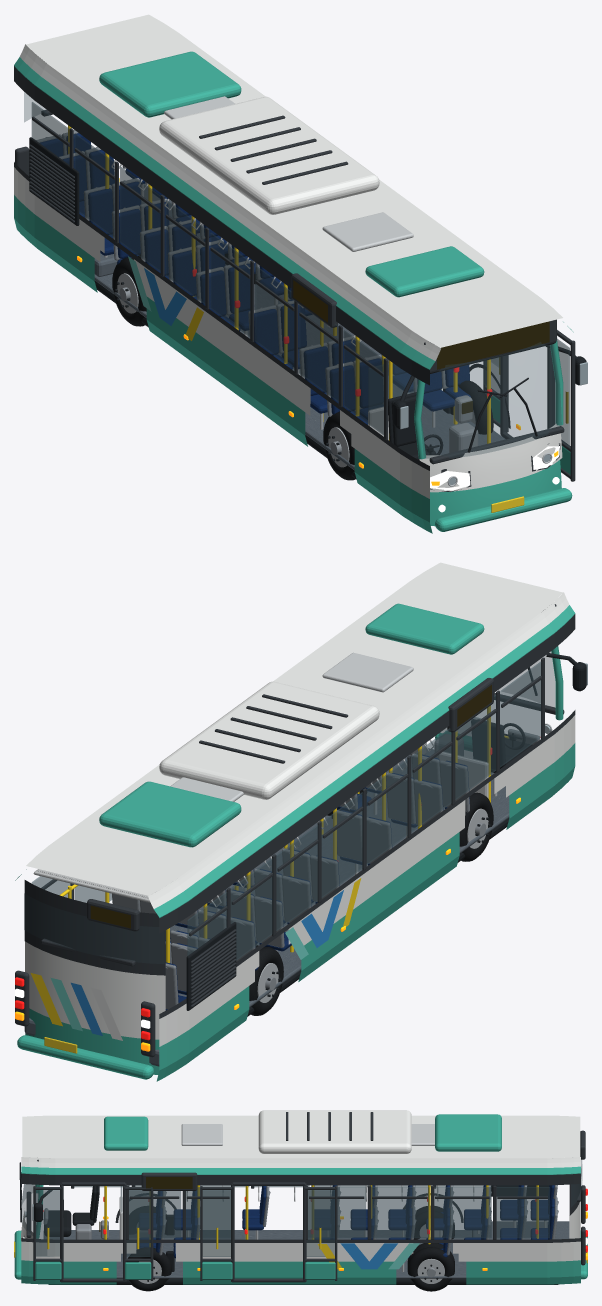
File: bus_egged.glb
3 views of the same model, one above another, from view 1: azimuth 30°, elevation 25°; view 2: azimuth 150°, elevation 25°; view 3: azimuth 270°, elevation 25° (orthographic). The views are drawn at different scales.
Parts seen in each view (by area): view 1: Body_Bus_Paint_White_PBR, Body_Bus_Smoked_Glass, Body_Bus_Paint_Teal_PBR, Body_Bus_Charcoal_PBR, Body_Bus_Seat_Fabric_4K_PBR, Body_Bus_Floor_4K_PBR, Body_Bus_Black_Plastic, Body_Bus_Seat_Shell, Body_Bus_Light_Grey, DestSign, Body_Bus_Safety_Yellow, Door1L_Bus_Charcoal_PBR (+7 smaller); view 2: Body_Bus_Paint_White_PBR, Body_Bus_Paint_Teal_PBR, Body_Bus_Smoked_Glass, Body_Bus_Charcoal_PBR, Body_Bus_Seat_Shell, Body_Bus_Floor_4K_PBR, Body_Bus_Light_Grey, Body_Bus_Black_Plastic, Body_Bus_Safety_Yellow, Body_Bus_Livery_Blue, Body_Bus_Seat_Fabric_4K_PBR, Wheel_RL_Outer_Bus_Tyre_Rubber_PBR (+3 smaller); view 3: Body_Bus_Paint_White_PBR, Body_Bus_Smoked_Glass, Body_Bus_Paint_Teal_PBR, Body_Bus_Charcoal_PBR, Body_Bus_Seat_Fabric_4K_PBR, Body_Bus_Floor_4K_PBR, Body_Bus_Black_Plastic, Body_Bus_Light_Grey, Door2L_Bus_Smoked_Glass, Body_Bus_Seat_Shell, Door2R_Bus_Smoked_Glass, Door1L_Bus_Smoked_Glass (+19 smaller).
Part boxes in pixels (left/top/right/bottom): Body_Bus_Paint_White_PBR: left=14, top=14, right=562, bottom=498; Body_Bus_Smoked_Glass: left=24, top=92, right=561, bottom=458; Body_Bus_Paint_Teal_PBR: left=14, top=51, right=573, bottom=533; Body_Bus_Charcoal_PBR: left=14, top=59, right=564, bottom=491; Body_Bus_Seat_Fabric_4K_PBR: left=40, top=133, right=470, bottom=424; Body_Bus_Floor_4K_PBR: left=94, top=183, right=505, bottom=470; Body_Bus_Black_Plastic: left=29, top=137, right=586, bottom=479; Body_Bus_Seat_Shell: left=36, top=130, right=448, bottom=416; Body_Bus_Light_Grey: left=111, top=96, right=413, bottom=440; DestSign: left=437, top=321, right=549, bottom=369; Body_Bus_Safety_Yellow: left=68, top=125, right=490, bottom=443; Door1L_Bus_Charcoal_PBR: left=553, top=330, right=575, bottom=481; Body_Bus_Paint_White_PBR: left=25, top=562, right=575, bottom=1046; Body_Bus_Paint_Teal_PBR: left=15, top=603, right=575, bottom=1081; Body_Bus_Smoked_Glass: left=24, top=646, right=557, bottom=963; Body_Bus_Charcoal_PBR: left=15, top=604, right=575, bottom=1057; Body_Bus_Seat_Shell: left=112, top=753, right=469, bottom=1009; Body_Bus_Floor_4K_PBR: left=24, top=748, right=509, bottom=1066; Body_Bus_Light_Grey: left=170, top=652, right=488, bottom=906; Body_Bus_Black_Plastic: left=186, top=653, right=586, bottom=1016; Body_Bus_Safety_Yellow: left=30, top=706, right=490, bottom=1026; Body_Bus_Livery_Blue: left=71, top=890, right=343, bottom=1035; Body_Bus_Seat_Fabric_4K_PBR: left=165, top=754, right=469, bottom=1010; Wheel_RL_Outer_Bus_Tyre_Rubber_PBR: left=249, top=947, right=283, bottom=1015; Body_Bus_Paint_White_PBR: left=21, top=1110, right=580, bottom=1261; Body_Bus_Smoked_Glass: left=21, top=1160, right=582, bottom=1238; Body_Bus_Paint_Teal_PBR: left=14, top=1114, right=587, bottom=1284; Body_Bus_Charcoal_PBR: left=21, top=1112, right=585, bottom=1282; Body_Bus_Seat_Fabric_4K_PBR: left=139, top=1185, right=554, bottom=1258; Body_Bus_Floor_4K_PBR: left=44, top=1221, right=569, bottom=1278; Body_Bus_Black_Plastic: left=33, top=1185, right=558, bottom=1284; Body_Bus_Light_Grey: left=43, top=1124, right=474, bottom=1239; Door2L_Bus_Smoked_Glass: left=202, top=1190, right=230, bottom=1256; Body_Bus_Seat_Shell: left=159, top=1185, right=558, bottom=1255; Door2R_Bus_Smoked_Glass: left=306, top=1190, right=334, bottom=1256; Door1L_Bus_Smoked_Glass: left=36, top=1190, right=59, bottom=1256.
Size of the model in its own units: 3.14 by 3.38 by 12.18.
Materials: 23 (4 with a texture image).
